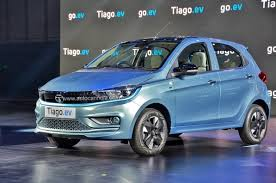Tiago: (33, 34, 273, 157)
